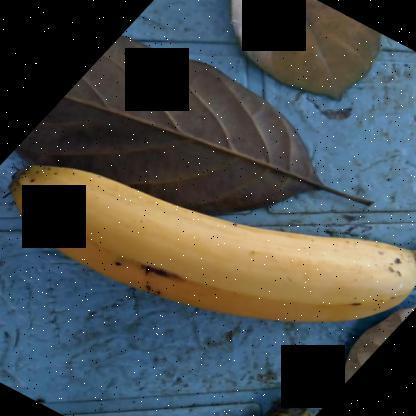freshripe: (7, 149, 415, 341)
